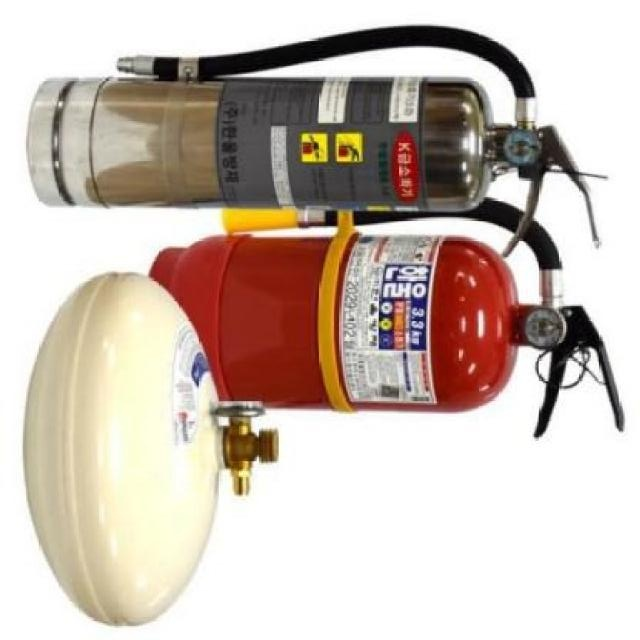fire extinguisher: (29, 25, 603, 259), (147, 196, 625, 438)
